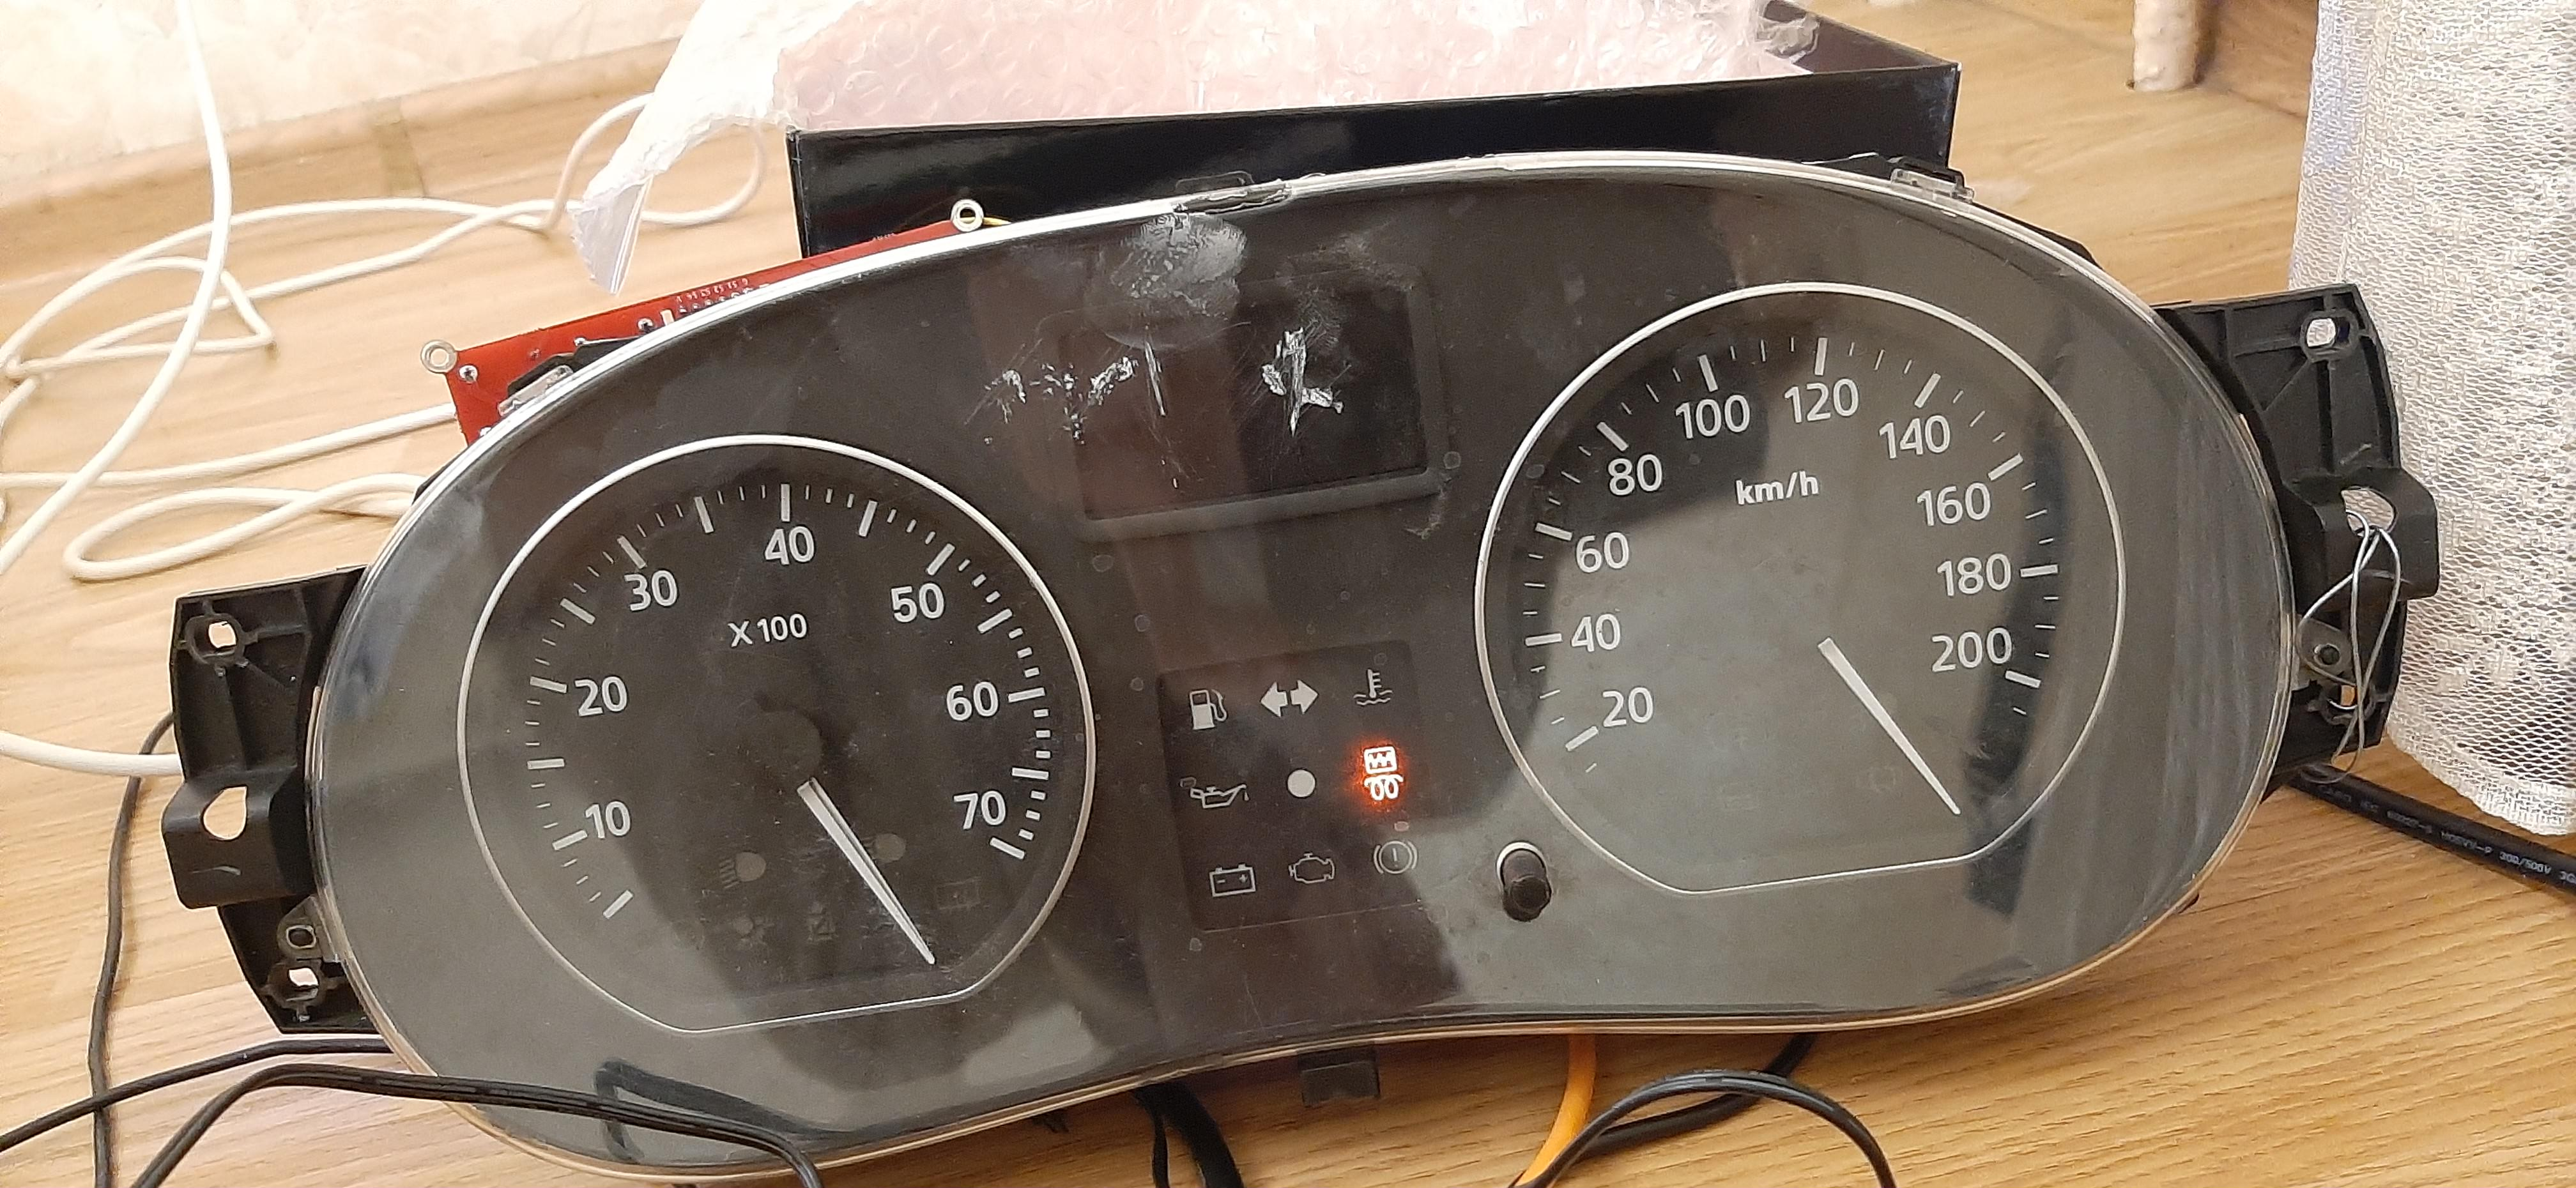diesel7: (1360, 744, 1405, 800)
